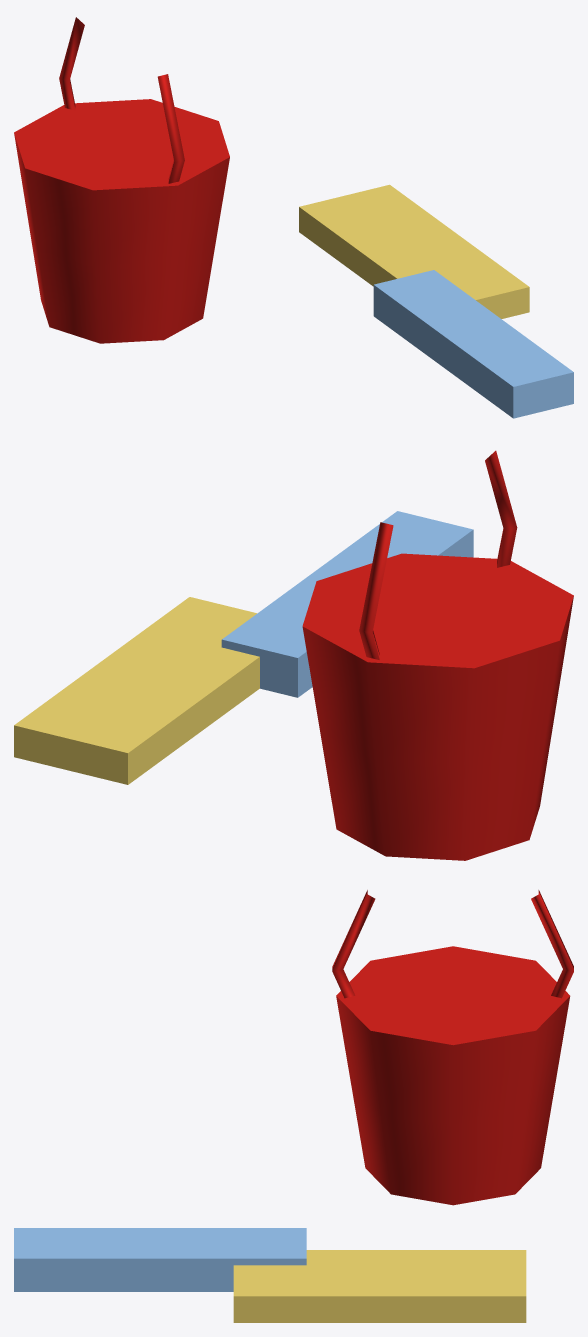
The model's file is balde_pazinha_quarto.glb.
The picture shows the model from 3 angles, top to bottom: view 1: azimuth 30°, elevation 25°; view 2: azimuth 150°, elevation 25°; view 3: azimuth 270°, elevation 25°; orthographic projection. The views are drawn at different scales.
Visible parts, largest first — view 1: Malha_0; view 2: Malha_0; view 3: Malha_0.
Boxes of the visible parts, box(x1,y1,x2,y2) form: Malha_0: box(14, 17, 573, 418); Malha_0: box(14, 450, 573, 860); Malha_0: box(14, 890, 573, 1322).
Size of the model in its own units: 0.66 by 0.4167 by 0.765.
